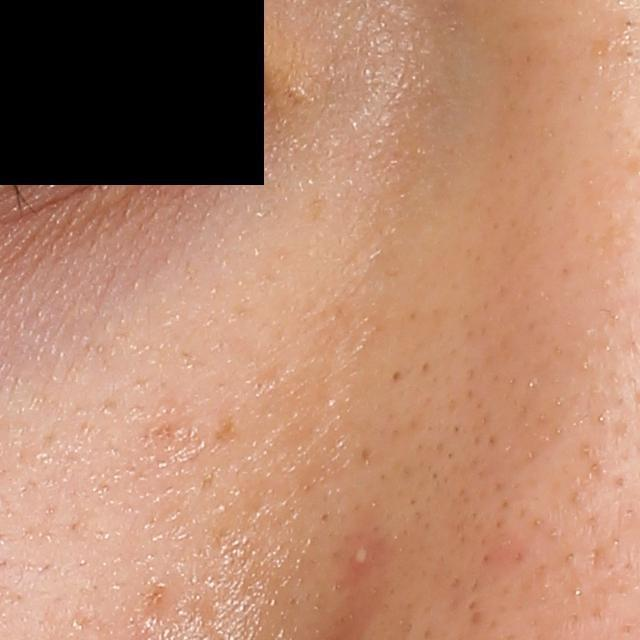pustule: (344, 540, 373, 571)
